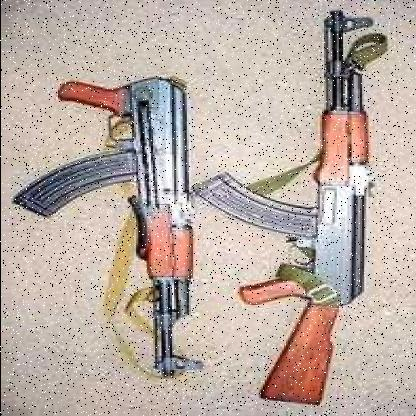rifle: (209, 6, 397, 409), (21, 64, 226, 385)
